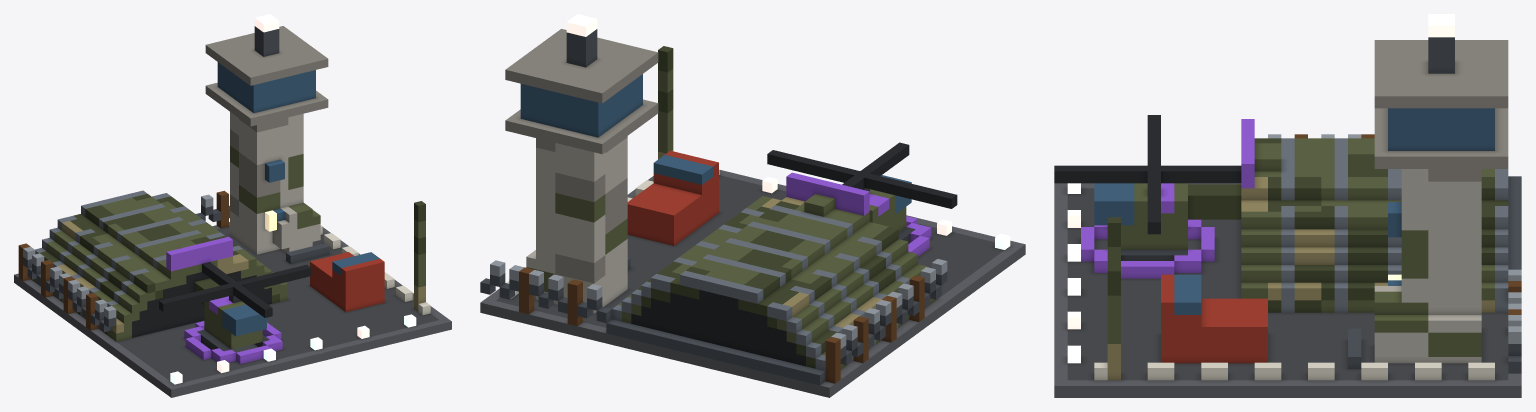
File: cm_airfield_4.glb
3 views of the same model, side by side, from view 1: azimuth 30°, elevation 25°; view 2: azimuth 150°, elevation 25°; view 3: azimuth 270°, elevation 25° (orthographic). The views are drawn at different scales.
Visible parts, largest first — view 1: cm_airfield_4_body; view 2: cm_airfield_4_body; view 3: cm_airfield_4_body.
Part boxes in pixels (<box>): cm_airfield_4_body: <box>14,14,451,397</box>; cm_airfield_4_body: <box>480,14,1025,397</box>; cm_airfield_4_body: <box>1054,14,1521,397</box>.
Bounding box in the file's own units: 2.25 × 1.75 × 2.19.
1 material, 1 textured.
